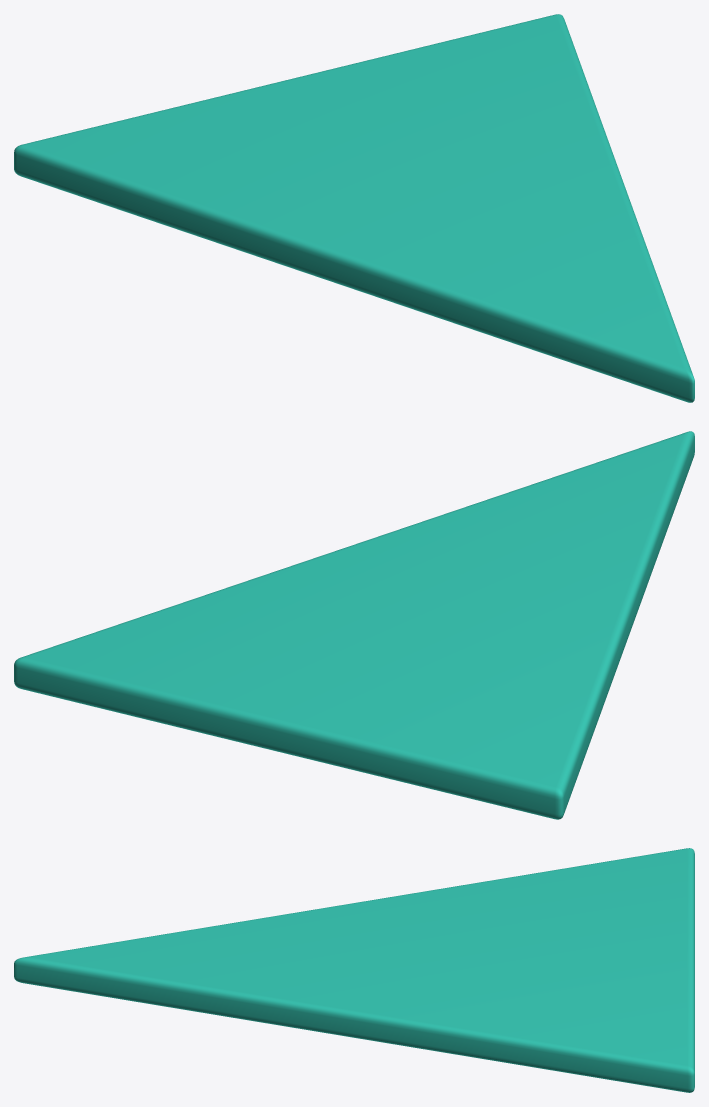
Rendered from croissant_triangle.FBX.
The picture shows the model from 3 angles, top to bottom: view 1: azimuth 30°, elevation 25°; view 2: azimuth 150°, elevation 25°; view 3: azimuth 270°, elevation 25°; orthographic projection. The views are drawn at different scales.
Visible parts, largest first — view 1: croissant_triangle; view 2: croissant_triangle; view 3: croissant_triangle.
Boxes of the visible parts, x1,y1,x2,y2 form: croissant_triangle: [14, 14, 694, 402]; croissant_triangle: [14, 431, 694, 819]; croissant_triangle: [14, 848, 694, 1092].
Bounding box in the file's own units: 70.17 × 3.81 × 90.24.
